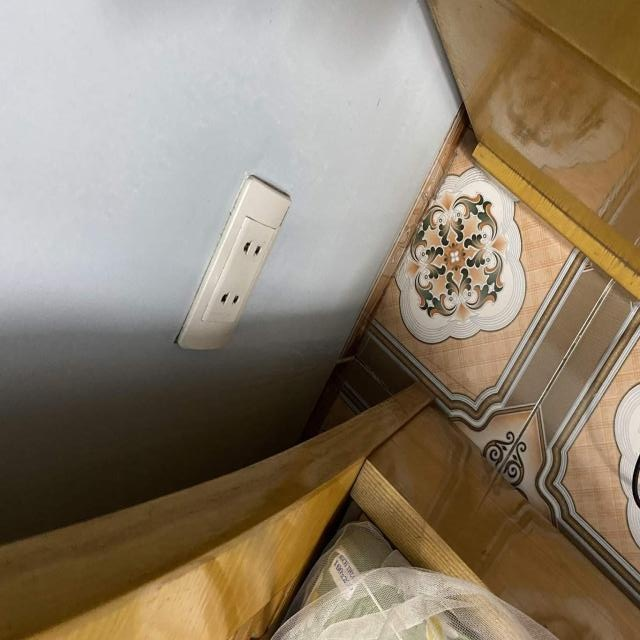outlet: (175, 175, 292, 351)
